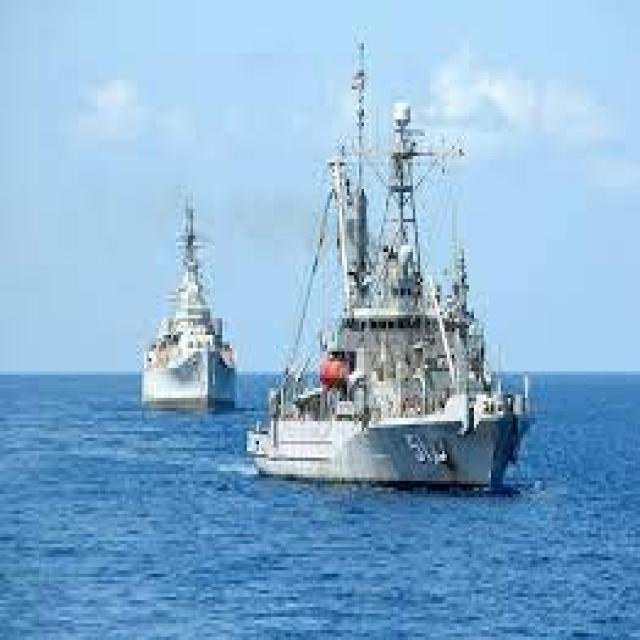navalvessels: (246, 91, 556, 500), (114, 190, 247, 416)
